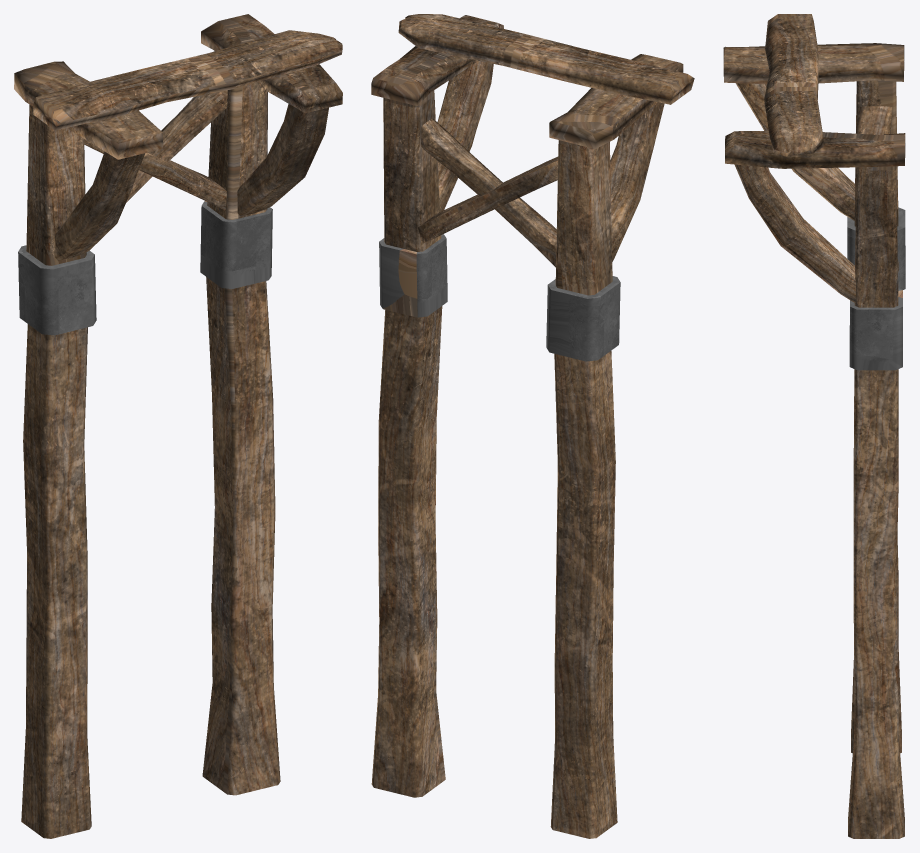
File: Bridge_Founation2.fbx
3 views of the same model, side by side, from view 1: azimuth 30°, elevation 25°; view 2: azimuth 150°, elevation 25°; view 3: azimuth 270°, elevation 25° (orthographic). The views are drawn at different scales.
Parts seen in each view (by area): view 1: Bridge_Founation2; view 2: Bridge_Founation2; view 3: Bridge_Founation2.
Part boxes in pixels (box(x1,y1,x2,y2)): Bridge_Founation2: box(14, 14, 342, 838); Bridge_Founation2: box(371, 14, 694, 838); Bridge_Founation2: box(723, 14, 905, 838).
Size of the model in its own units: 4.01 by 9.96 by 2.33.
Materials: 1 (1 with a texture image).
